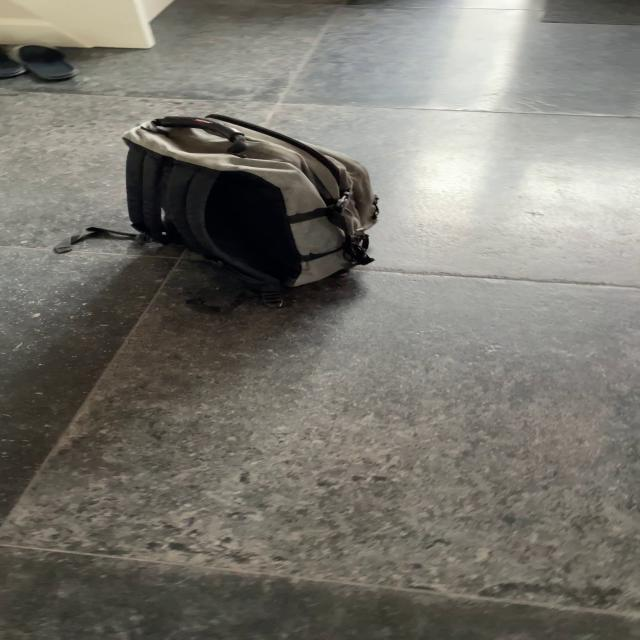backpack: (108, 108, 394, 310)
